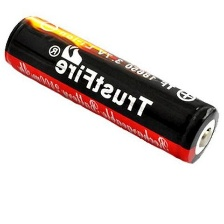battery: (1, 13, 221, 168)
